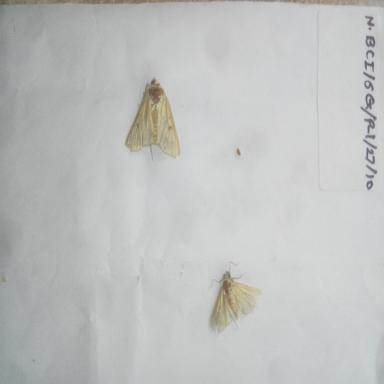abw: (122, 72, 182, 162), (205, 256, 267, 338)
